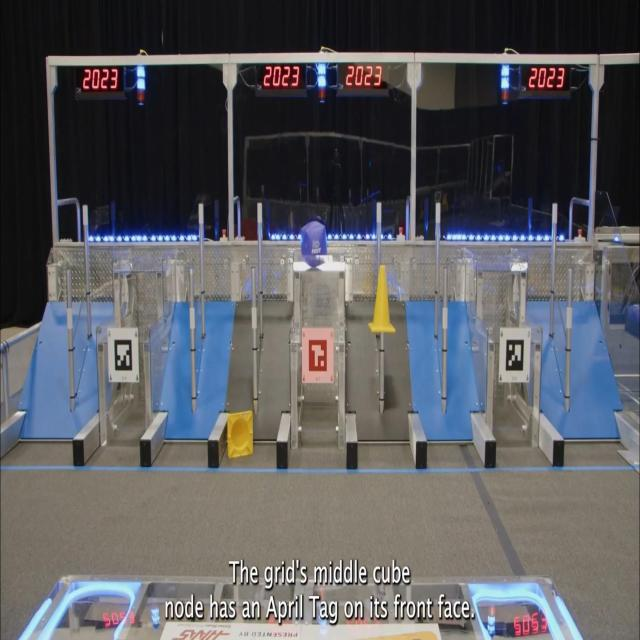frc_cone: (368, 266, 395, 332), (226, 410, 254, 457)
frc_cube: (301, 220, 327, 266), (624, 304, 640, 337)
